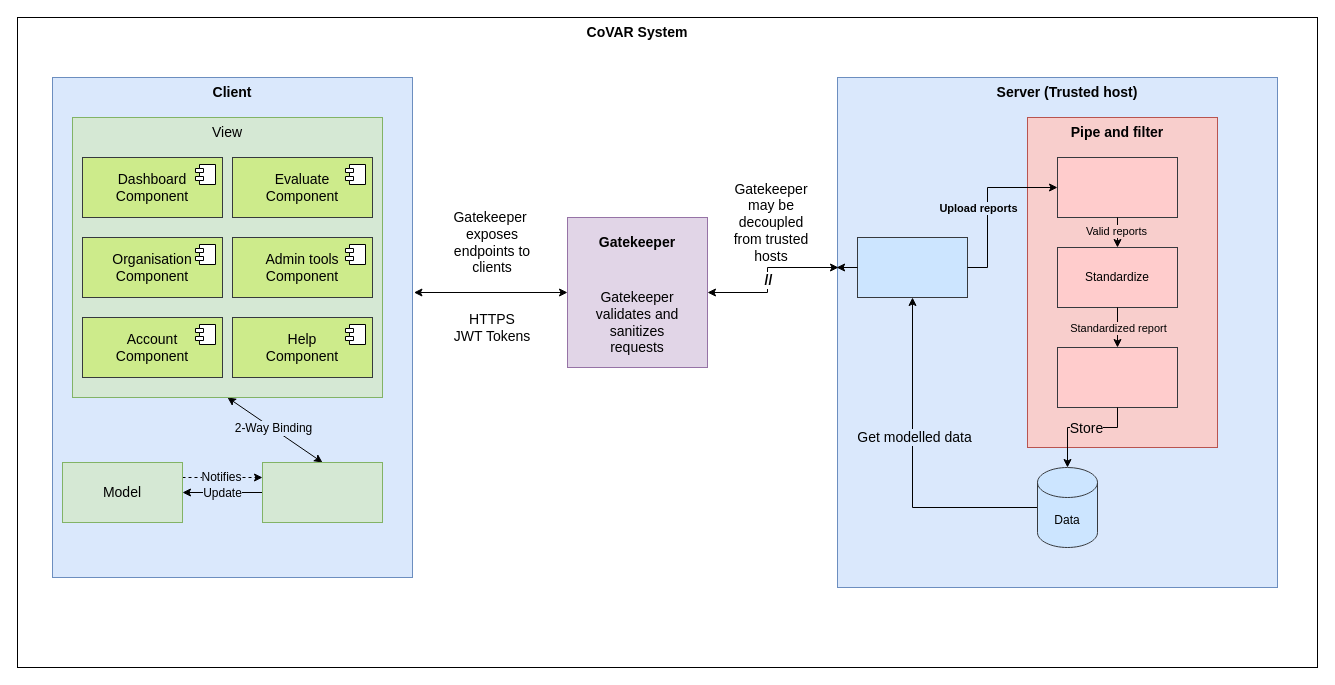
Some shapes in this 1335 by 685 pixel diagram are drawn without their labels. Each missing label, with the centre of its shape:
Model data: the point at 1117,377
Restful API Endpoints: the point at 912,267
Scan reports: the point at 1117,187
ViewModel: the point at 322,492
